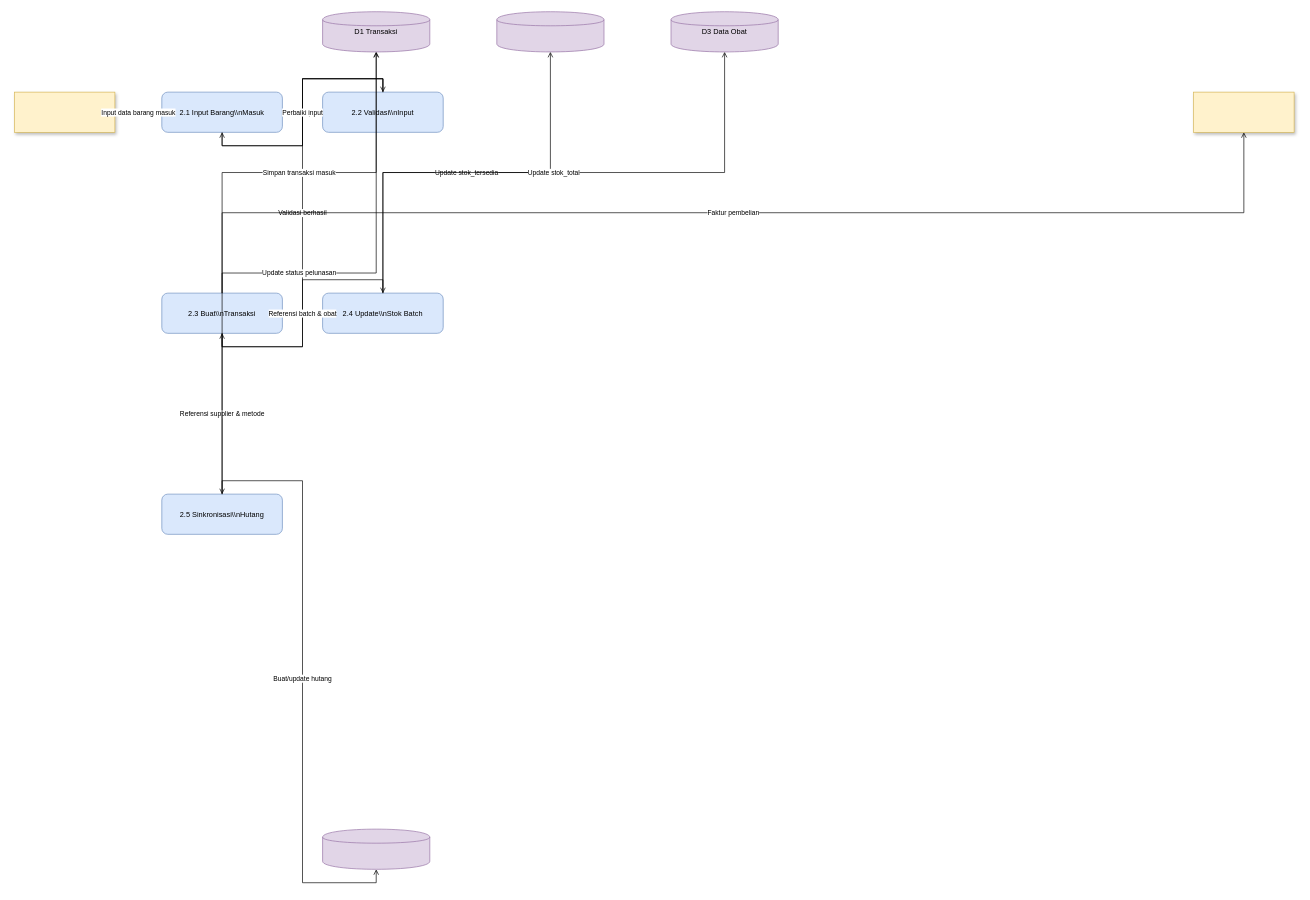
The diagram is 1310 pixels wide and 900 high, and some of its shapes have lost their labels. The shapes that lost their labels are listed below. From the top down, each one's centre as x and y in pixels, then its label:
At pixel 550 31: "D2 Batch Obat".
At pixel 65 113: "Apoteker / Staff".
At pixel 1244 113: "Supplier".
At pixel 376 848: "D4 Hutang".
